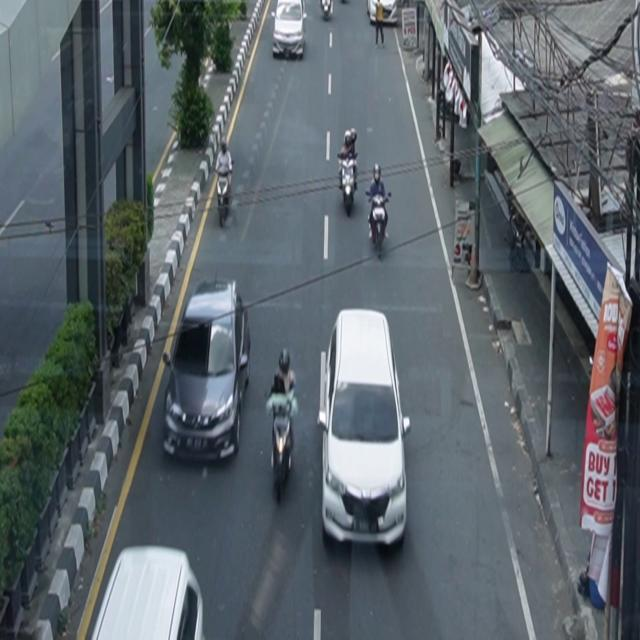car: (318, 309, 412, 549), (163, 278, 252, 466), (90, 545, 205, 640), (272, 1, 307, 60), (367, 1, 399, 27)
